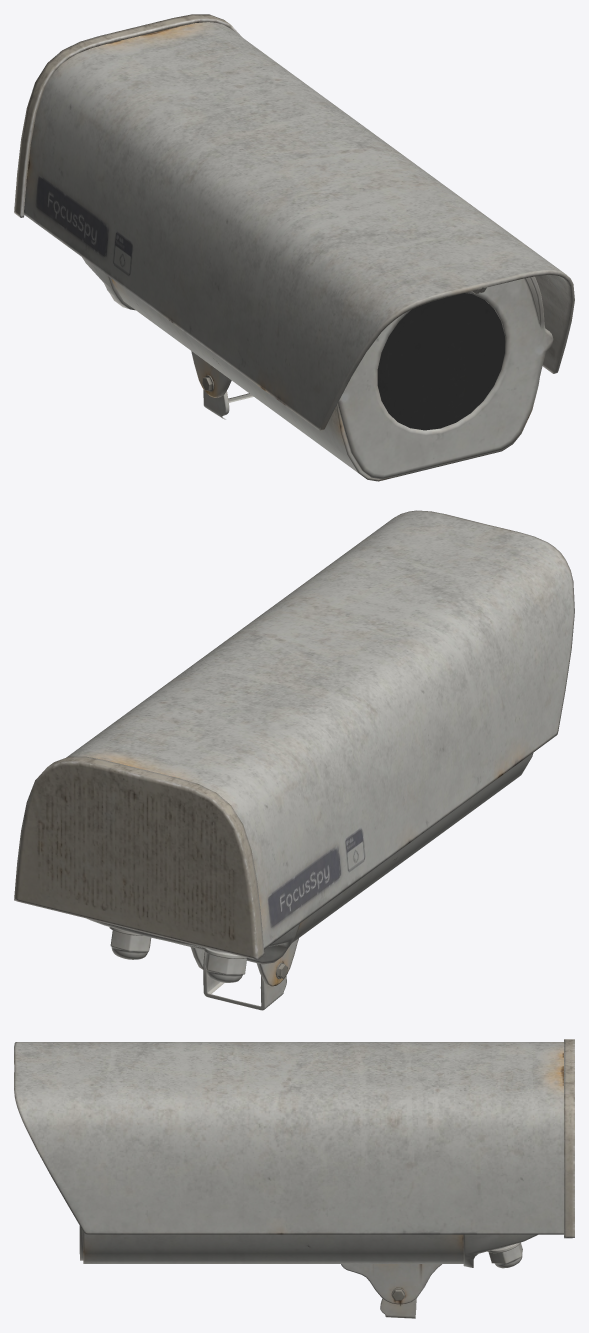
The model's file is security_camera_head.glb.
The picture shows the model from 3 angles, top to bottom: view 1: azimuth 30°, elevation 25°; view 2: azimuth 150°, elevation 25°; view 3: azimuth 270°, elevation 25°; orthographic projection. The views are drawn at different scales.
Parts seen in each view (by area): view 1: CameraHead; view 2: CameraHead; view 3: CameraHead.
Part boxes in pixels (bbox=[...]): CameraHead: bbox=[14, 14, 574, 481]; CameraHead: bbox=[14, 510, 574, 1010]; CameraHead: bbox=[14, 1039, 574, 1318].
Bounding box in the file's own units: 0.1696 × 0.2007 × 0.4185.
2 materials, 2 textured.
